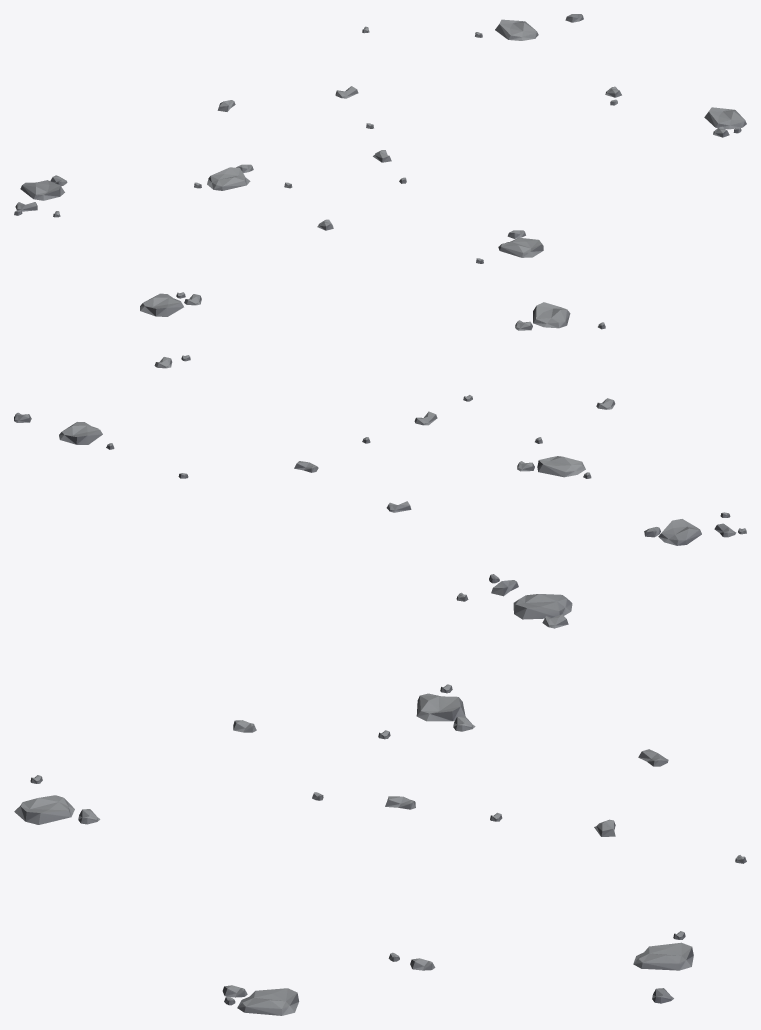
The model's file is Ground_04.FBX.
3 renders of one model, top to bottom at view 1: azimuth 30°, elevation 25°; view 2: azimuth 150°, elevation 25°; view 3: azimuth 270°, elevation 25°, orthographic. The views are drawn at different scales.
Parts seen in each view (by area): view 1: Ground_04; view 2: Ground_04; view 3: Ground_04.
Boxes of the visible parts, x1,y1,x2,y2 form: Ground_04: (14,14,746,263); Ground_04: (14,292,746,545); Ground_04: (14,574,746,1015).
Bounding box in the file's own units: 17.96 × 0.3787 × 12.7.
